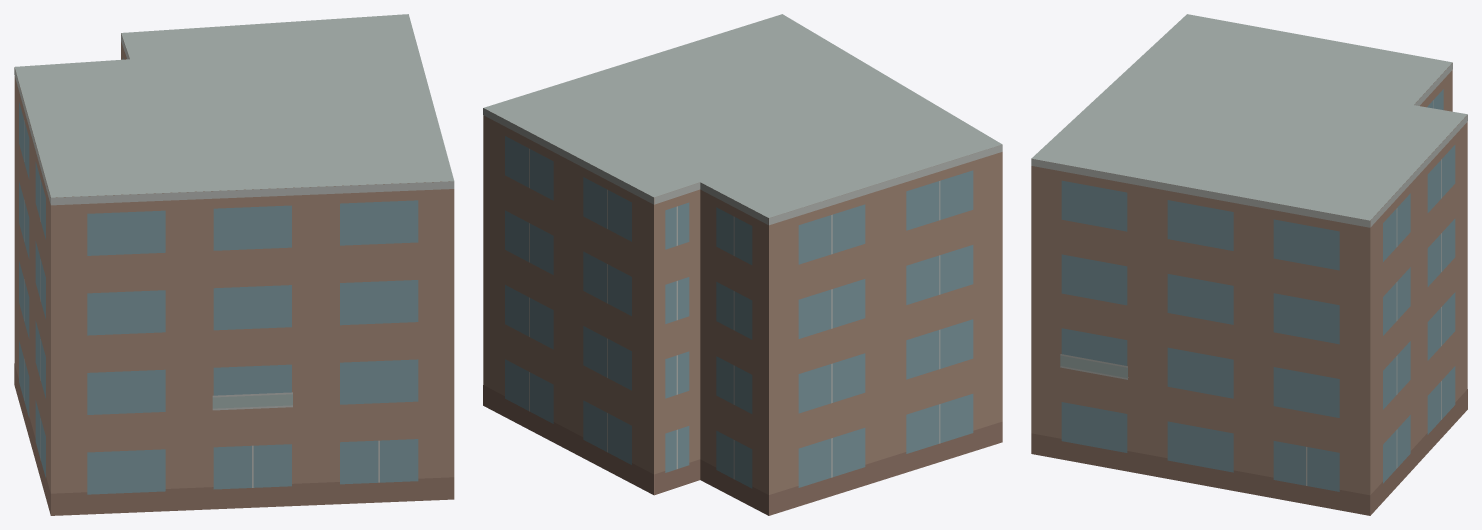
Rendered from survey-upis-32562302.glb.
3 views of the same model, side by side, from view 1: azimuth 30°, elevation 25°; view 2: azimuth 150°, elevation 25°; view 3: azimuth 270°, elevation 25° (orthographic). The views are drawn at different scales.
Visible parts, largest first — view 1: survey-upis-32562302.tmp; view 2: survey-upis-32562302.tmp; view 3: survey-upis-32562302.tmp.
Part boxes in pixels (x1,y1,x2,y2): survey-upis-32562302.tmp: (14,14,454,515); survey-upis-32562302.tmp: (483,14,1002,515); survey-upis-32562302.tmp: (1031,14,1467,515).
Bounding box in the file's own units: 15.06 × 10.03 × 13.45.
